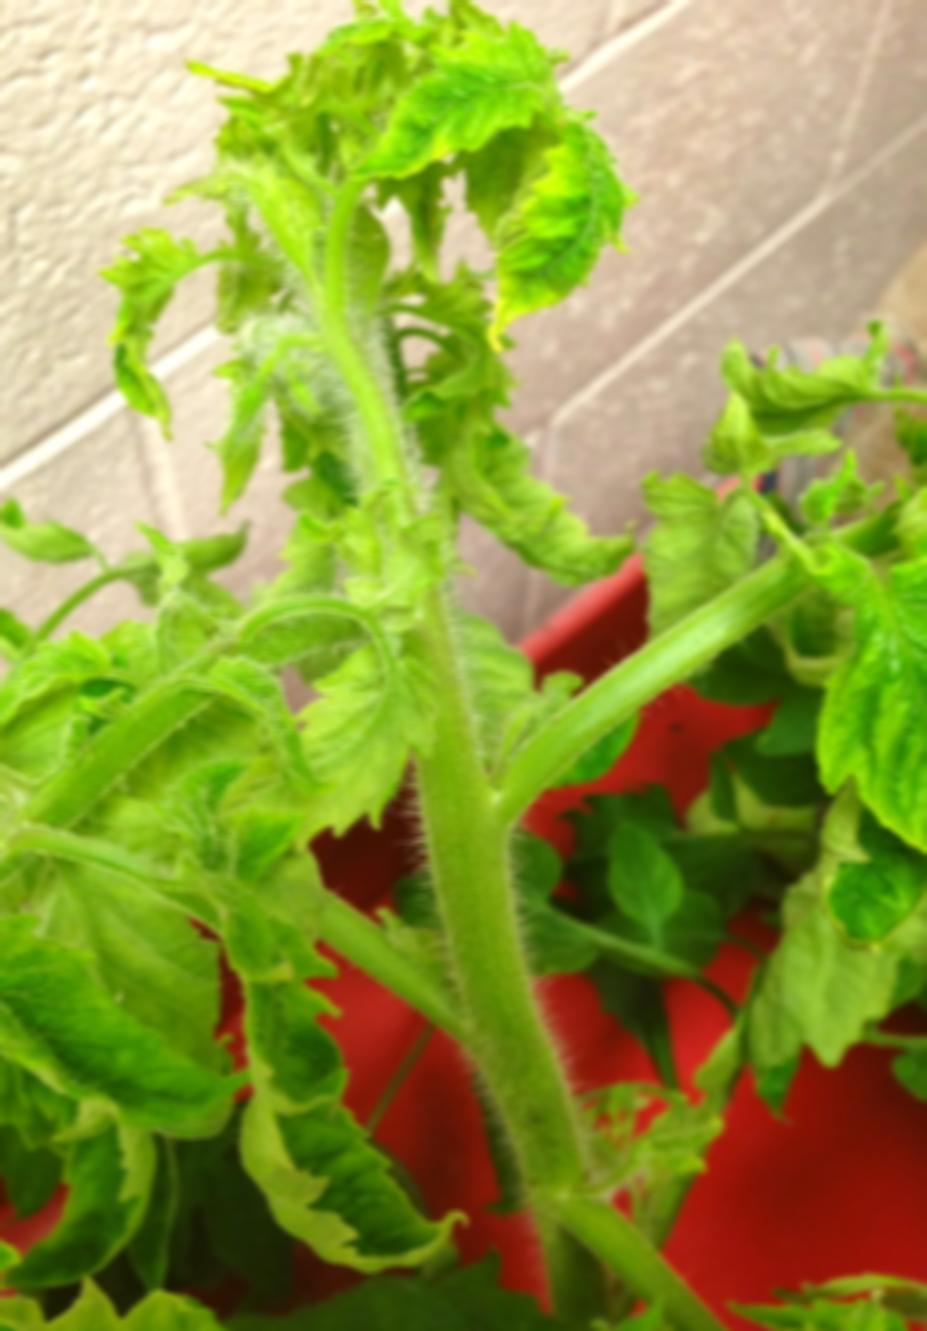Tomato leaf yellow virus: (209, 874, 456, 1302), (0, 904, 227, 1160), (790, 519, 927, 887), (461, 116, 643, 385), (237, 615, 431, 845), (338, 0, 545, 211)
